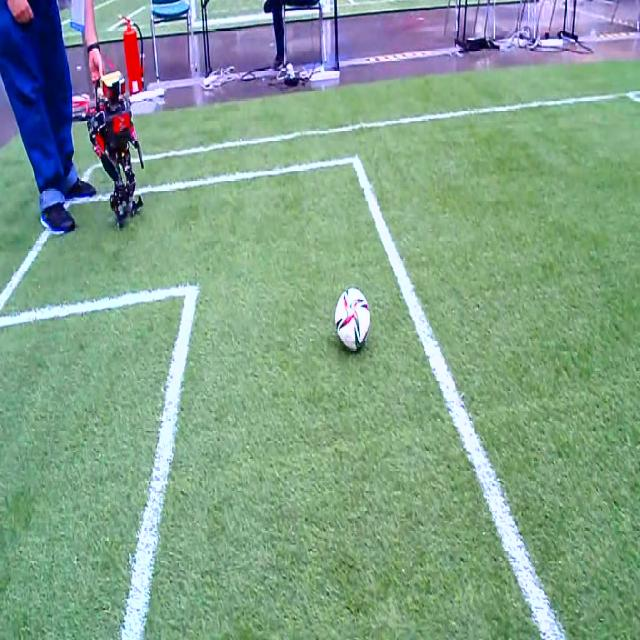ball: (335, 287, 370, 349)
